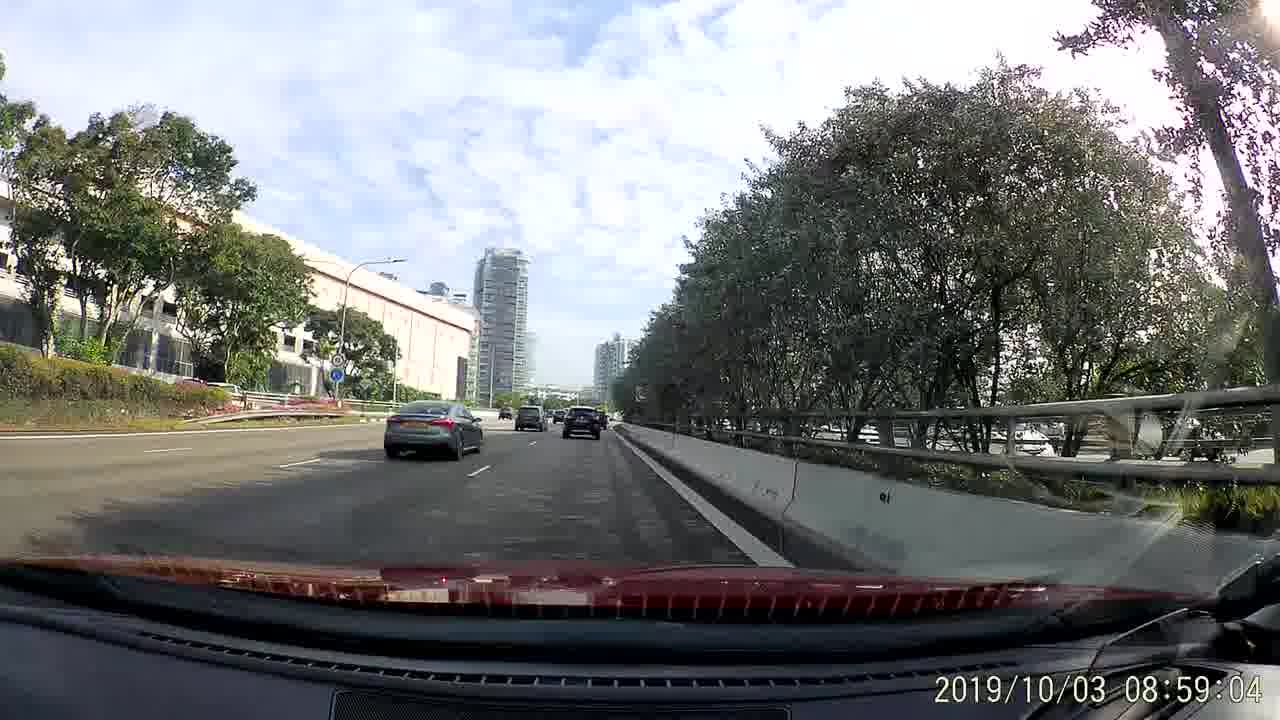car: (384, 397, 486, 460), (564, 401, 603, 443), (508, 399, 553, 433), (497, 406, 514, 422)
